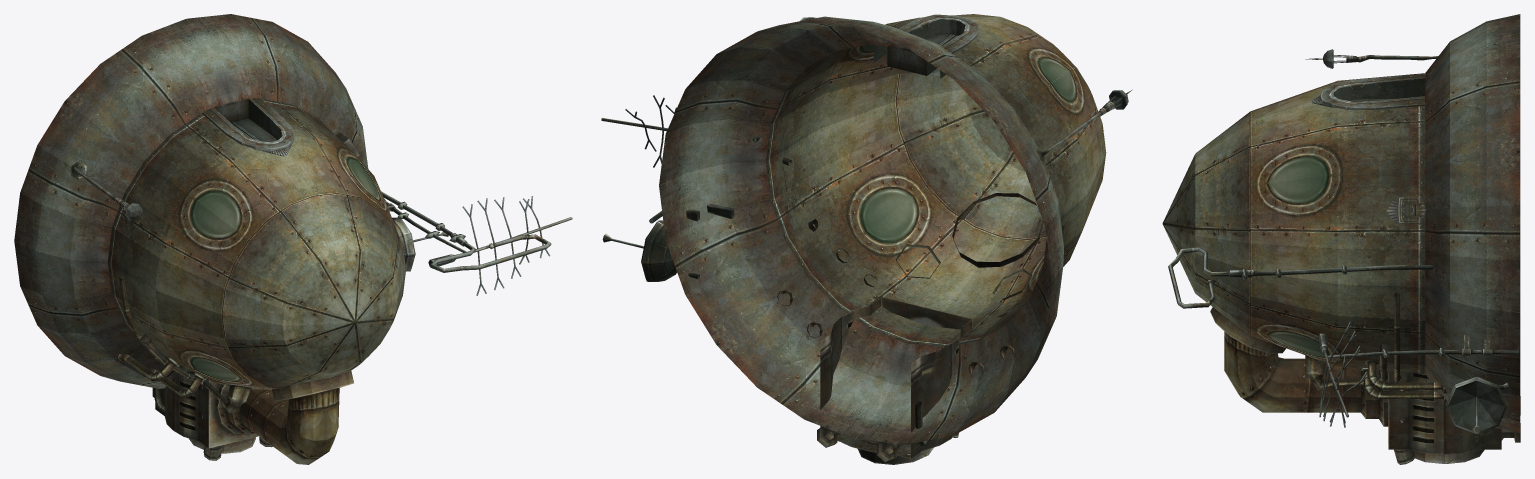
Rendered from huodong_fuben_662_rkzhu_02.obj.
The picture shows the model from 3 angles, left to right: view 1: azimuth 30°, elevation 25°; view 2: azimuth 150°, elevation 25°; view 3: azimuth 270°, elevation 25°; orthographic projection. The views are drawn at different scales.
Visible parts, largest first — view 1: huodong_fuben_662_rkzhu_02; view 2: huodong_fuben_662_rkzhu_02; view 3: huodong_fuben_662_rkzhu_02.
Part boxes in pixels (bbox=[...]): huodong_fuben_662_rkzhu_02: bbox=[14, 14, 572, 464]; huodong_fuben_662_rkzhu_02: bbox=[601, 14, 1132, 464]; huodong_fuben_662_rkzhu_02: bbox=[1162, 14, 1520, 464].
Size of the model in its own units: 1572 by 1250 by 967.
Materials: 5 (5 with a texture image).
